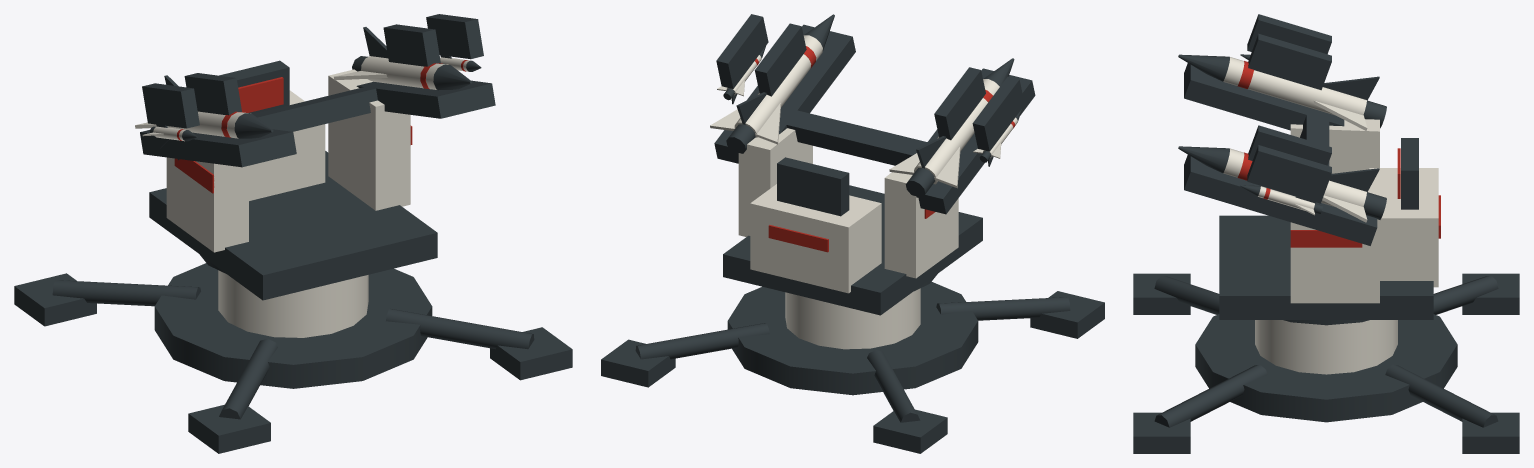
The picture shows the model from 3 angles, left to right: view 1: azimuth 30°, elevation 25°; view 2: azimuth 150°, elevation 25°; view 3: azimuth 270°, elevation 25°; orthographic projection. The views are drawn at different scales.
Visible parts, largest first — view 1: aa-missile-auto-fleet-machine, elevation-fleet-machine, turret-fleet-machine, turret-fleet-armor, aa-missile-auto-fleet-armor, store-right-large-painted, store-left-large-painted, radar-fleet-machine, radar-fleet-red, turret-fleet-red, store-left-small-painted; view 2: aa-missile-auto-fleet-machine, turret-fleet-armor, elevation-fleet-machine, turret-fleet-machine, aa-missile-auto-fleet-armor, store-right-large-painted, store-left-large-painted, radar-fleet-machine, turret-fleet-red, store-left-small-painted, store-right-small-painted; view 3: aa-missile-auto-fleet-machine, elevation-fleet-machine, turret-fleet-armor, turret-fleet-machine, aa-missile-auto-fleet-armor, store-left-large-painted, store-right-large-painted, radar-fleet-machine, turret-fleet-red, store-right-small-painted.
Boxes of the visible parts, box(x1,y1,x2,y2) form: aa-missile-auto-fleet-machine: box(14, 255, 572, 453); elevation-fleet-machine: box(140, 14, 495, 167); turret-fleet-machine: box(149, 151, 437, 300); turret-fleet-armor: box(166, 69, 410, 252); aa-missile-auto-fleet-armor: box(218, 270, 368, 337); store-right-large-painted: box(334, 27, 472, 90); store-left-large-painted: box(135, 75, 273, 160); radar-fleet-machine: box(219, 60, 289, 113); radar-fleet-red: box(238, 77, 283, 112); turret-fleet-red: box(174, 125, 412, 193); store-left-small-painted: box(142, 124, 197, 148); aa-missile-auto-fleet-machine: box(601, 274, 1104, 453); turret-fleet-armor: box(738, 128, 958, 293); elevation-fleet-machine: box(714, 14, 1035, 214); turret-fleet-machine: box(723, 185, 982, 315); aa-missile-auto-fleet-armor: box(785, 288, 920, 349); store-right-large-painted: box(710, 14, 834, 153); store-left-large-painted: box(889, 58, 1014, 197); radar-fleet-machine: box(777, 157, 849, 216); turret-fleet-red: box(768, 209, 934, 252); store-left-small-painted: box(973, 108, 1022, 166); store-right-small-painted: box(717, 46, 765, 104); aa-missile-auto-fleet-machine: box(1133, 273, 1519, 453); elevation-fleet-machine: box(1184, 14, 1377, 245); turret-fleet-armor: box(1290, 119, 1438, 303); turret-fleet-machine: box(1219, 215, 1433, 319); aa-missile-auto-fleet-armor: box(1255, 320, 1397, 374); store-left-large-painted: box(1178, 54, 1386, 130); store-right-large-painted: box(1178, 146, 1386, 222); radar-fleet-machine: box(1401, 138, 1418, 209); turret-fleet-red: box(1290, 195, 1440, 247); store-right-small-painted: box(1240, 185, 1322, 221).
Bounding box in the file's own units: 22.63 × 18.75 × 22.63.
